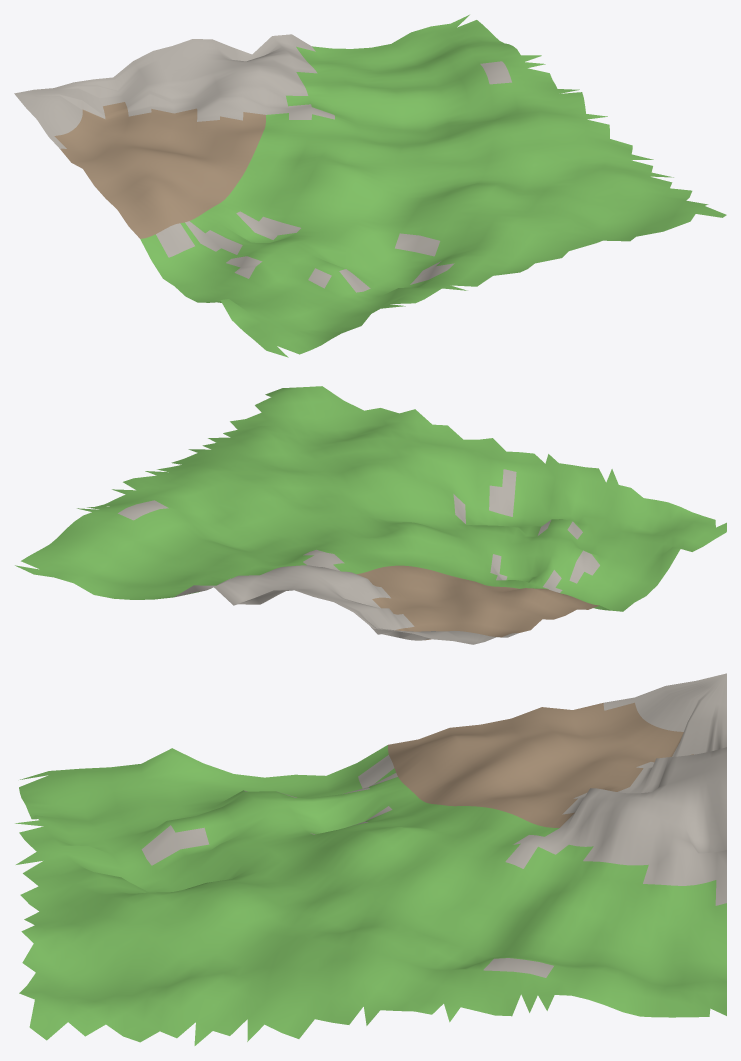
The model's file is flagship_terrain_300.glb.
3 views of the same model, one above another, from view 1: azimuth 30°, elevation 25°; view 2: azimuth 150°, elevation 25°; view 3: azimuth 270°, elevation 25° (orthographic). The views are drawn at different scales.
Visible parts, largest first — view 1: Terrain_300; view 2: Terrain_300; view 3: Terrain_300.
Boxes of the visible parts, box(x1,y1,x2,y2) form: Terrain_300: box(14, 14, 726, 357); Terrain_300: box(15, 386, 726, 644); Terrain_300: box(15, 673, 726, 1045).
Size of the model in its own units: 31.1 by 5.72 by 30.84.
